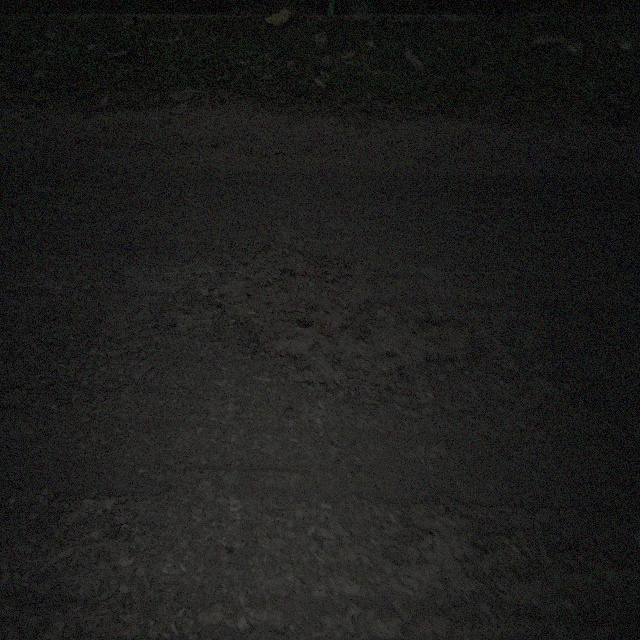pothole: (207, 232, 472, 388)
